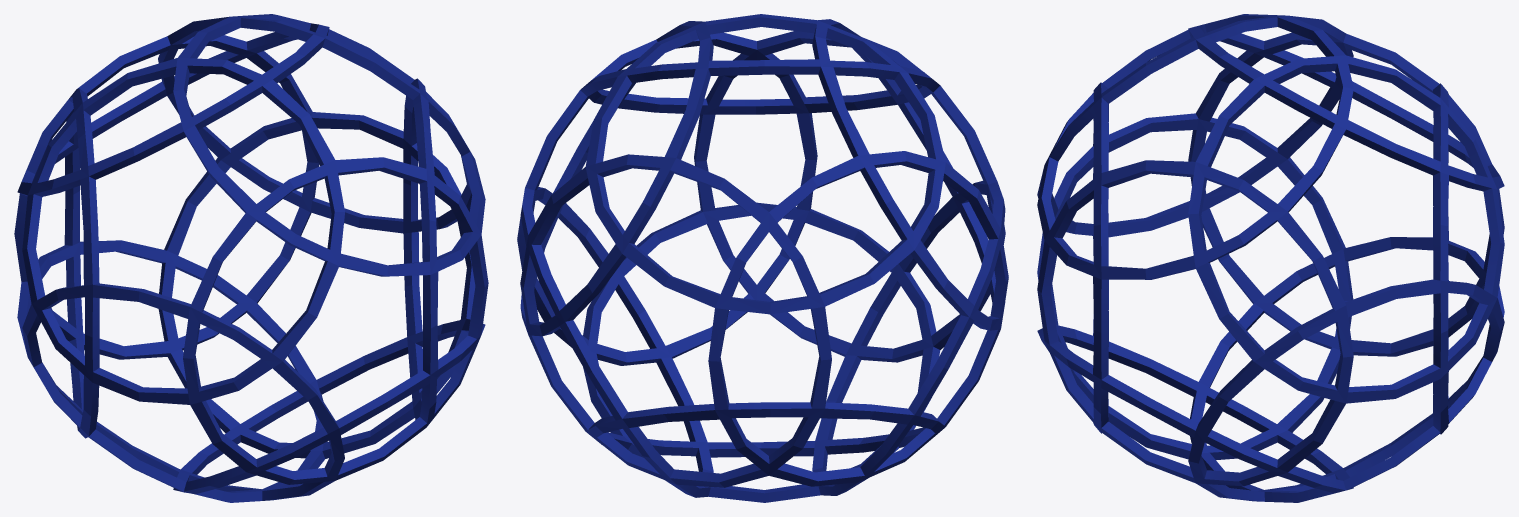
The model's file is testworld_flowercage.FBX.
3 views of the same model, side by side, from view 1: azimuth 30°, elevation 25°; view 2: azimuth 150°, elevation 25°; view 3: azimuth 270°, elevation 25° (orthographic).
Visible parts, largest first — view 1: flowercage; view 2: flowercage; view 3: flowercage.
Part boxes in pixels (<box>): flowercage: <box>14,14,488,502</box>; flowercage: <box>517,14,1008,502</box>; flowercage: <box>1037,14,1504,502</box>.
Bounding box in the file's own units: 1577 × 1550 × 1506.
